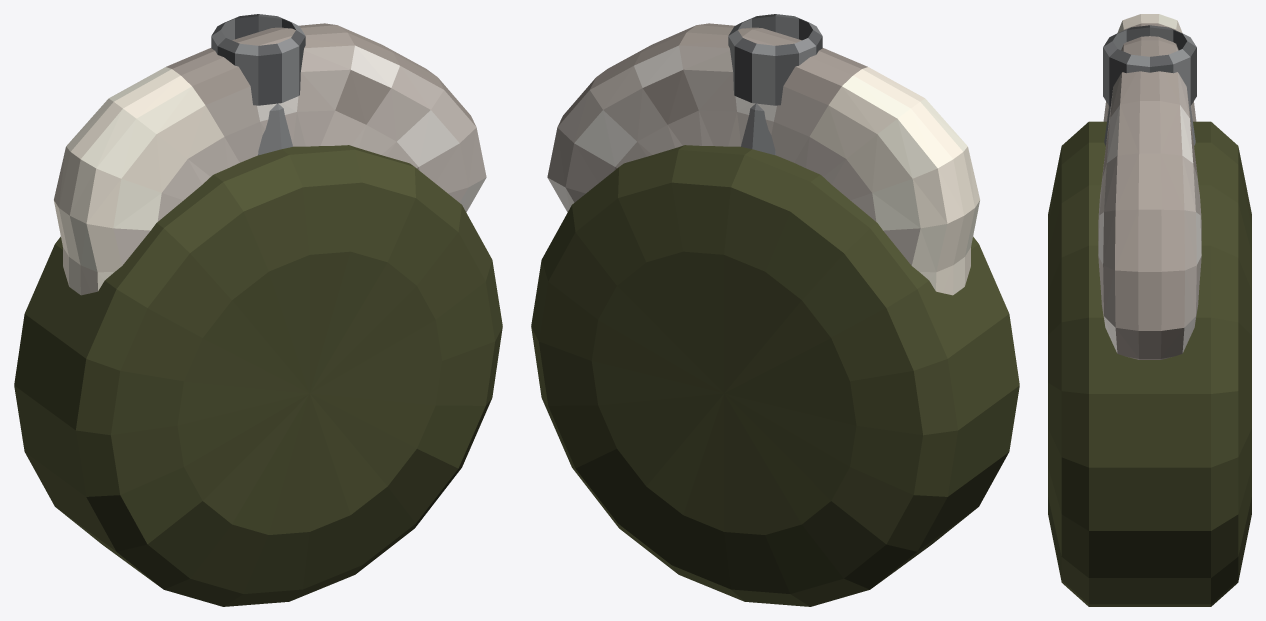
File: hand-props.glb
3 views of the same model, side by side, from view 1: azimuth 30°, elevation 25°; view 2: azimuth 150°, elevation 25°; view 3: azimuth 270°, elevation 25° (orthographic).
Visible parts, largest first — view 1: prop-flask, prop-steak; view 2: prop-flask, prop-steak; view 3: prop-flask, prop-steak.
Boxes of the visible parts, bbox=[...] form: prop-flask: bbox=[14, 14, 502, 606]; prop-steak: bbox=[54, 23, 486, 295]; prop-flask: bbox=[531, 14, 1019, 606]; prop-steak: bbox=[547, 23, 979, 295]; prop-flask: bbox=[1048, 25, 1251, 606]; prop-steak: bbox=[1098, 14, 1201, 359].
Bounding box in the file's own units: 0.1453 × 0.177 × 0.06.
